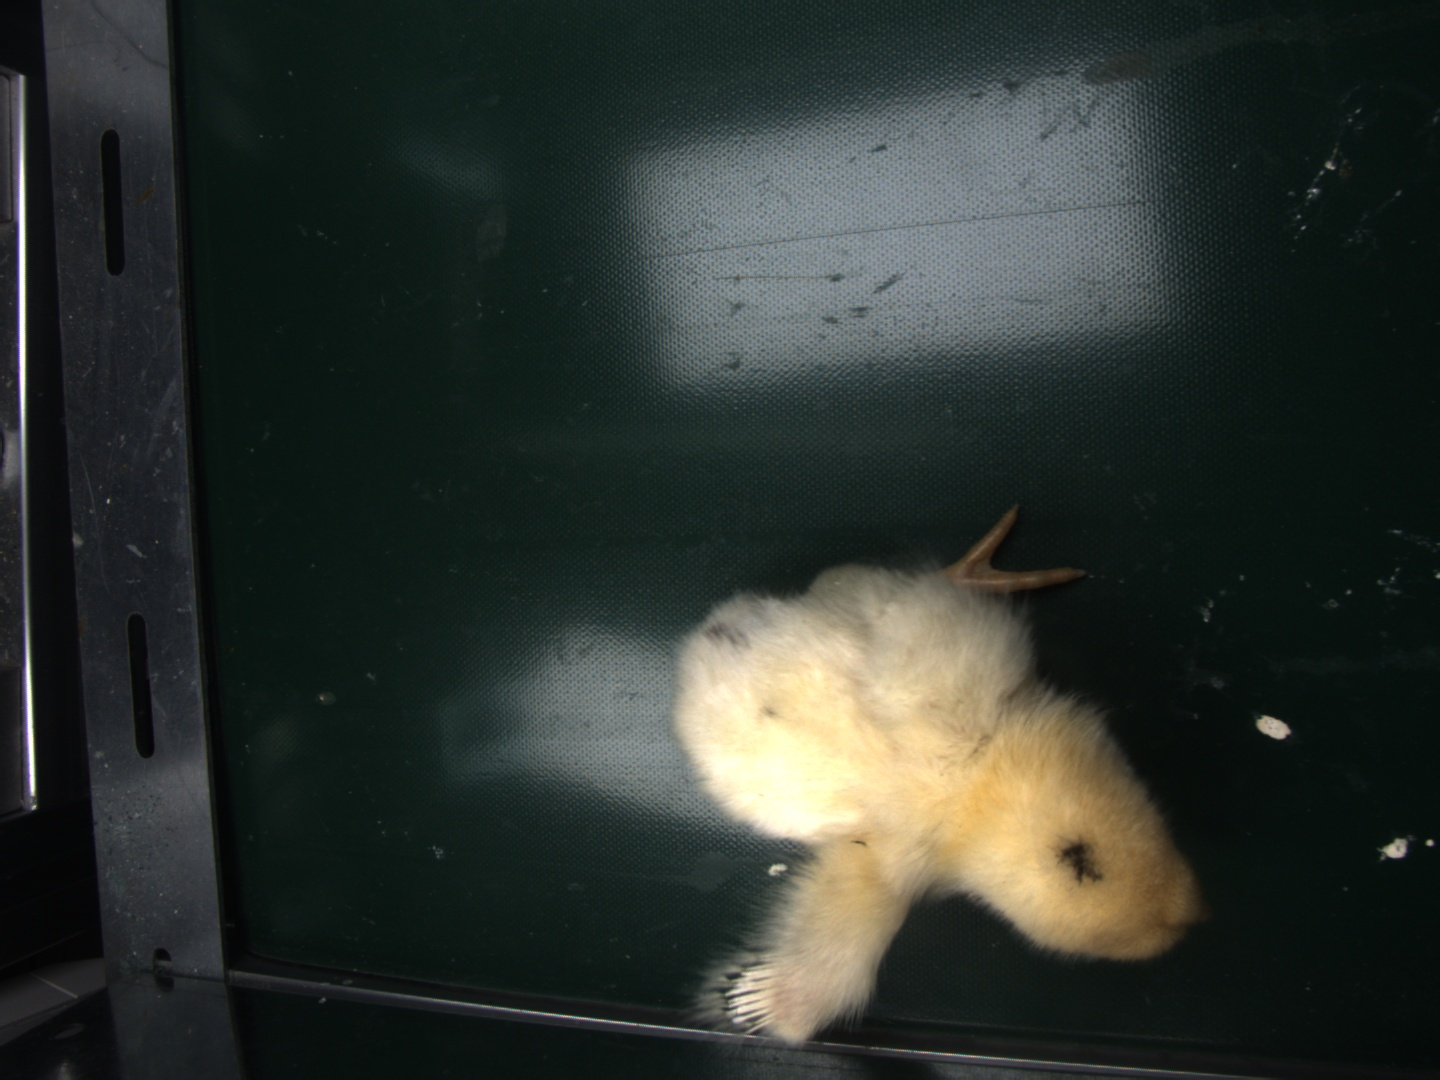male: (722, 964, 780, 1043)
